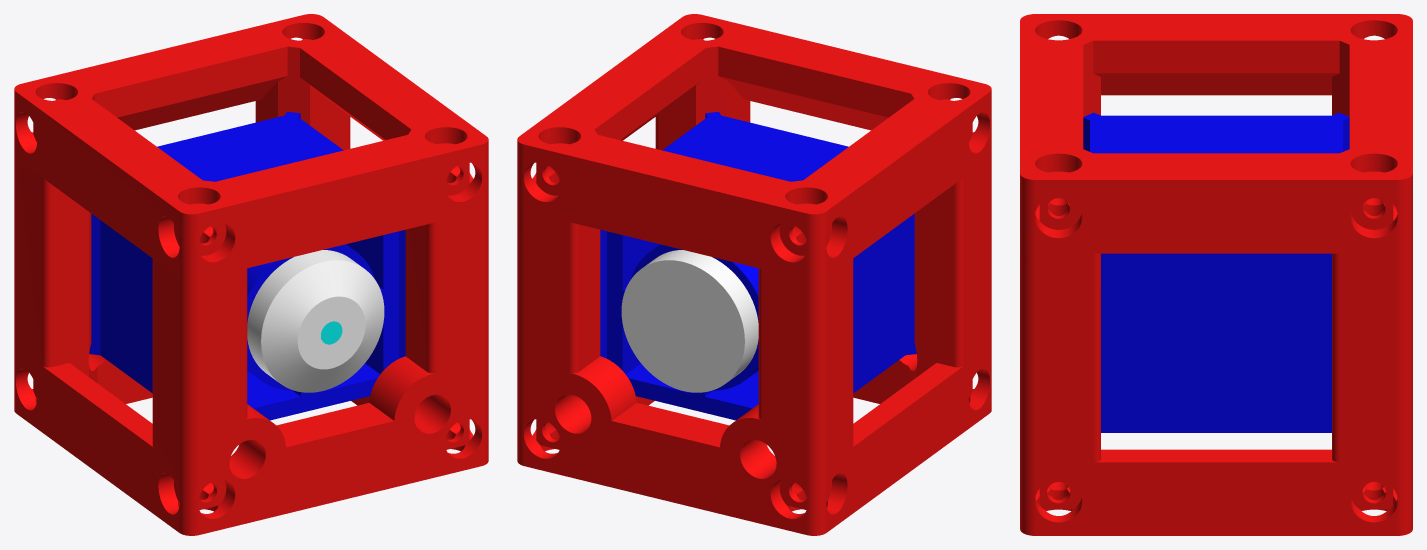
The model's file is Base Cube 1x1 (Objective).fbx.
3 renders of one model, left to right at view 1: azimuth 30°, elevation 25°; view 2: azimuth 150°, elevation 25°; view 3: azimuth 270°, elevation 25°, orthographic. The views are drawn at different scales.
Parts seen in each view (by area): view 1: Base Cube 1x1 (Objective); view 2: Base Cube 1x1 (Objective); view 3: Base Cube 1x1 (Objective).
Part boxes in pixels (x1,y1,x2,y2): Base Cube 1x1 (Objective): [14, 14, 488, 535]; Base Cube 1x1 (Objective): [517, 14, 991, 535]; Base Cube 1x1 (Objective): [1020, 14, 1412, 535].
Bounding box in the file's own units: 4.98 × 4.98 × 4.98.
